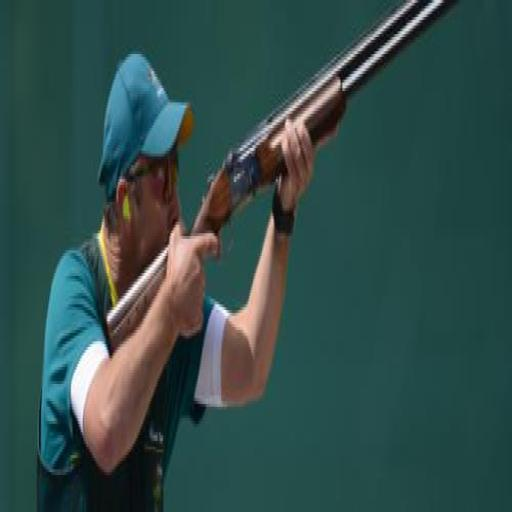shooting: (35, 48, 317, 510)
